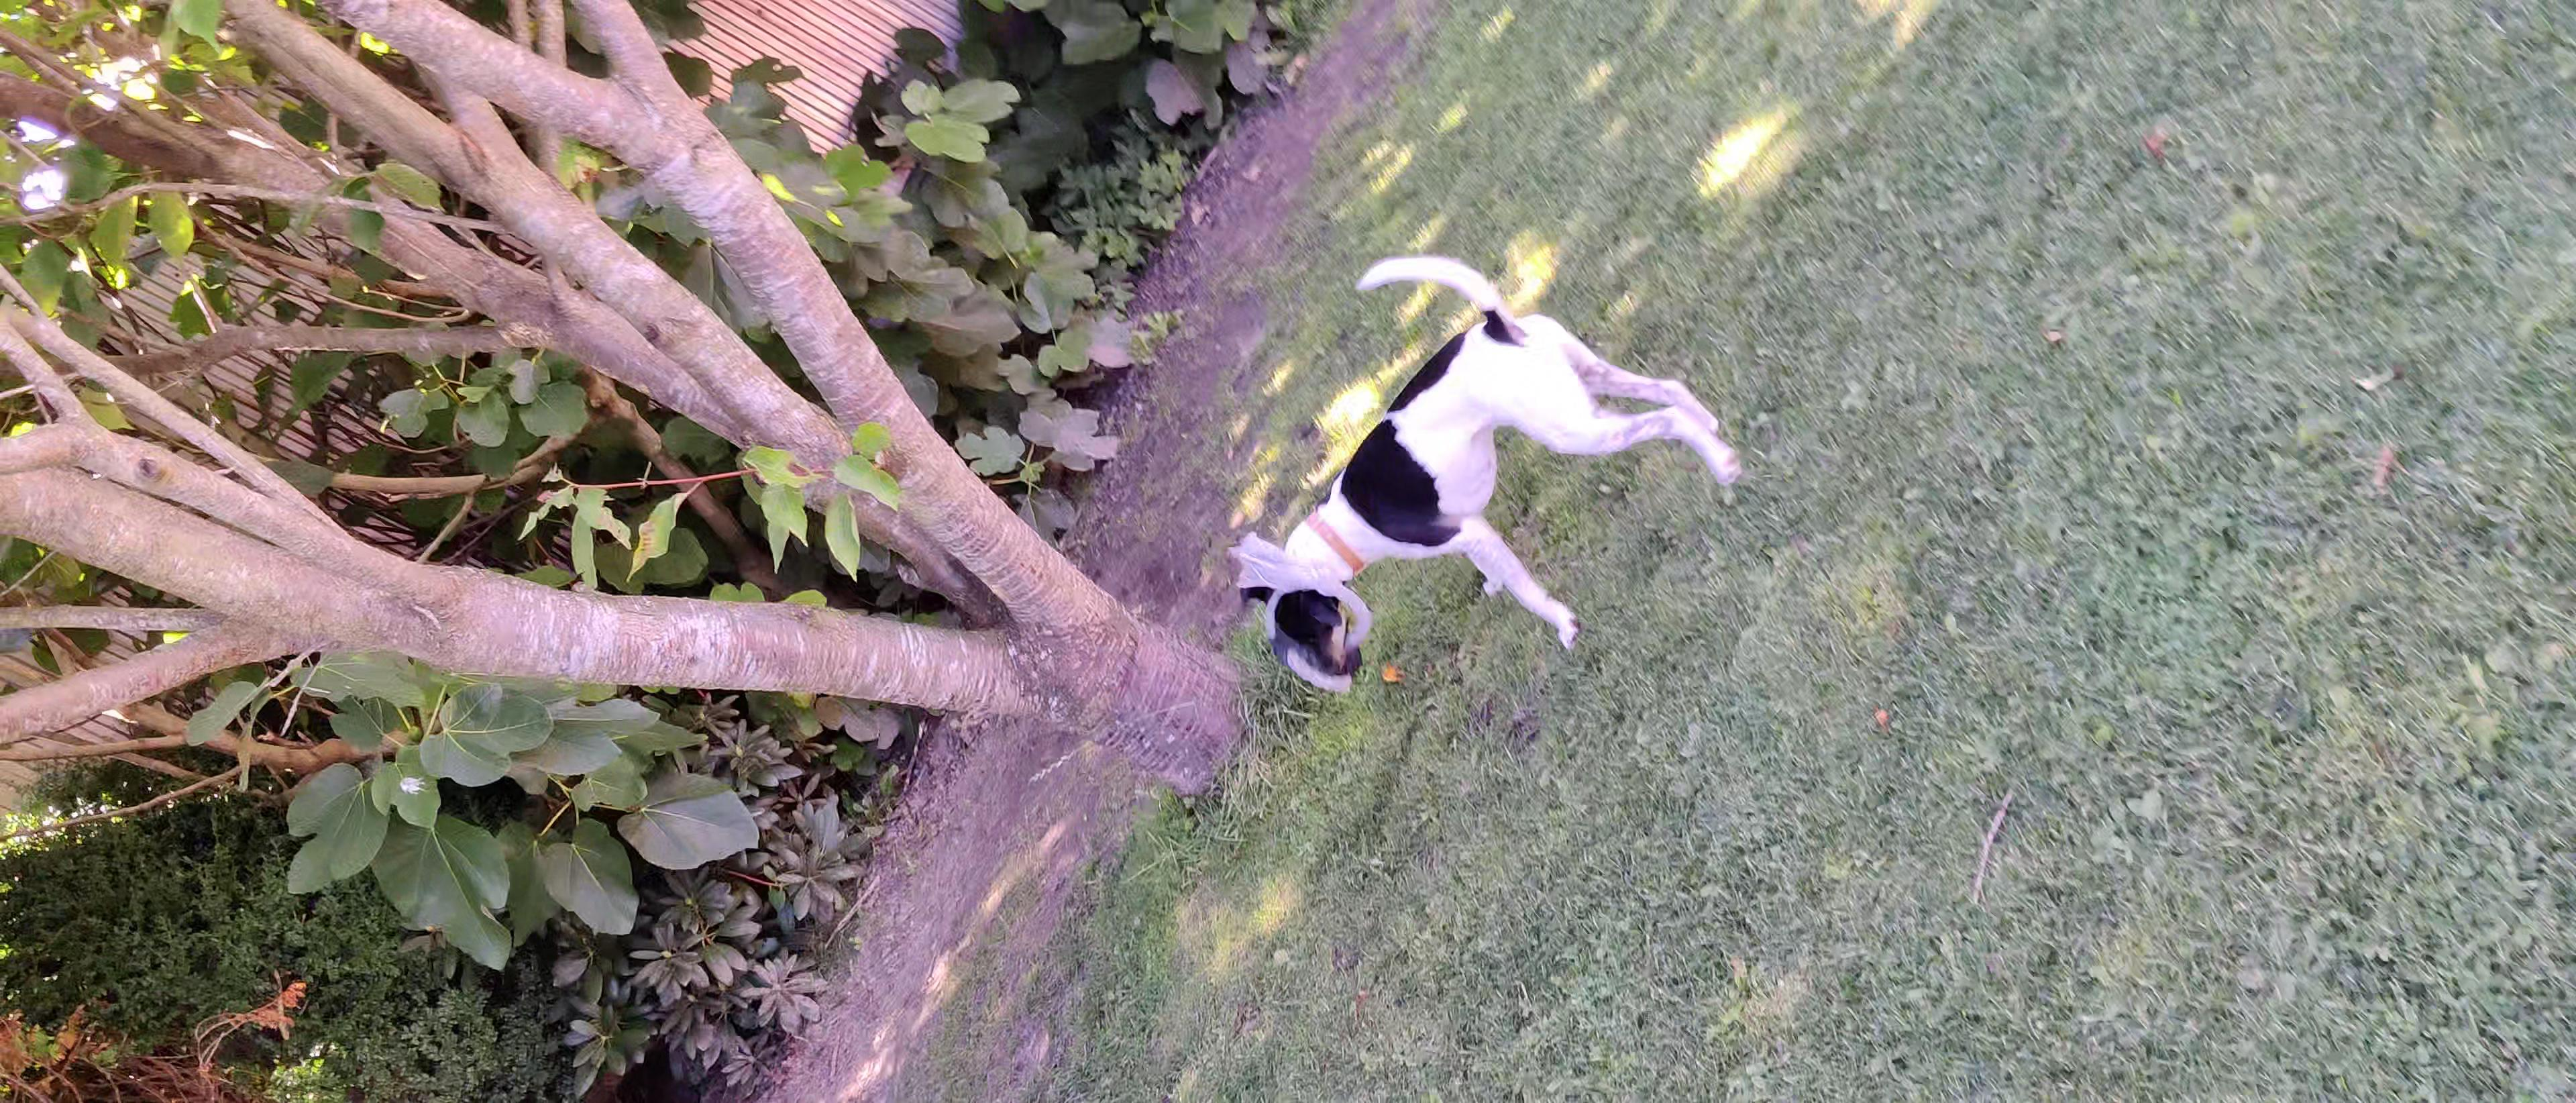Dog: (1237, 245, 1763, 674)
